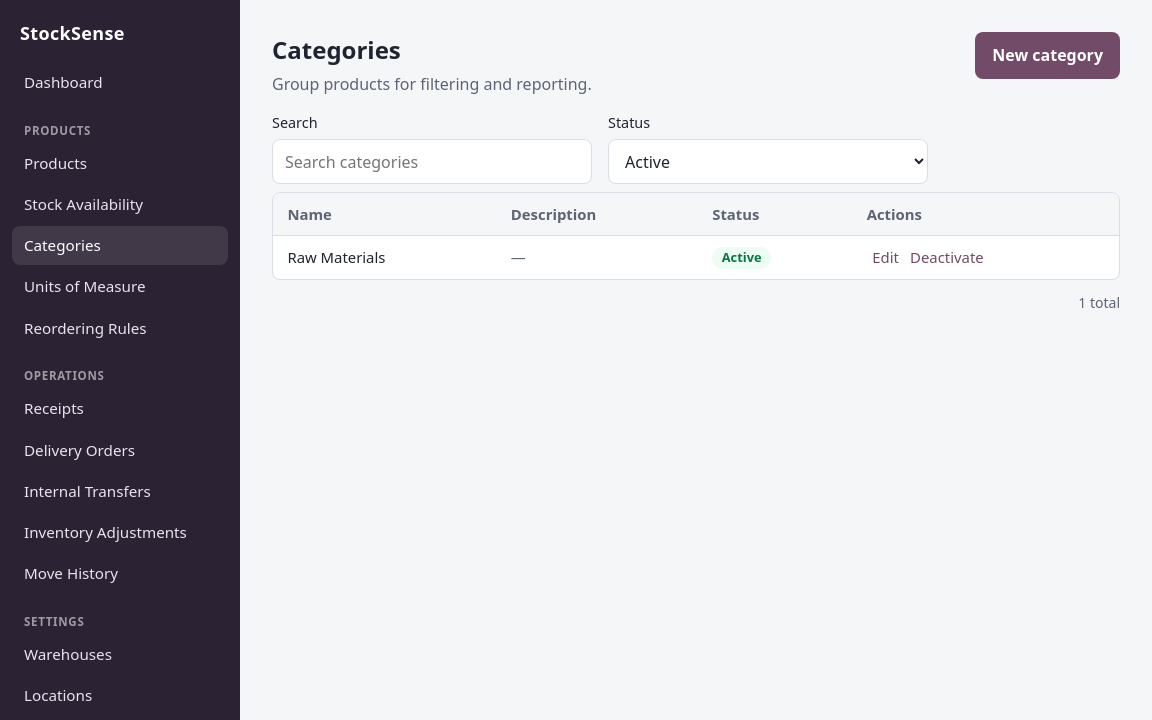
Scenario: categories › deactivates a category
Click the button "Deactivate". click: (947, 257)
box: [904,246,989,268]
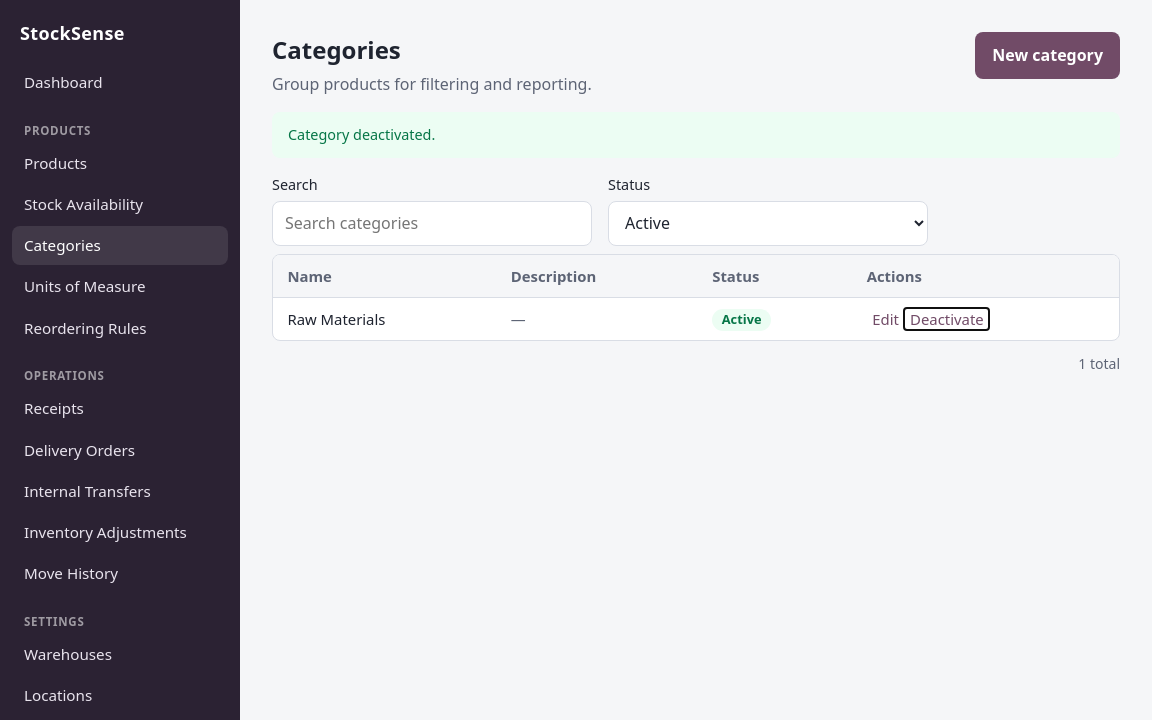
Expected: the text "Category deactivated." is shown, [272,112,1120,158]
